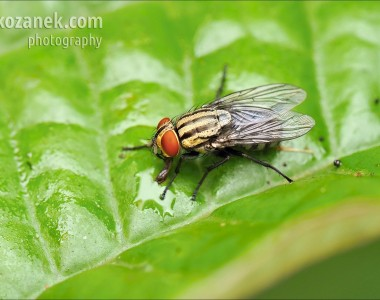fly: (113, 59, 322, 213)
